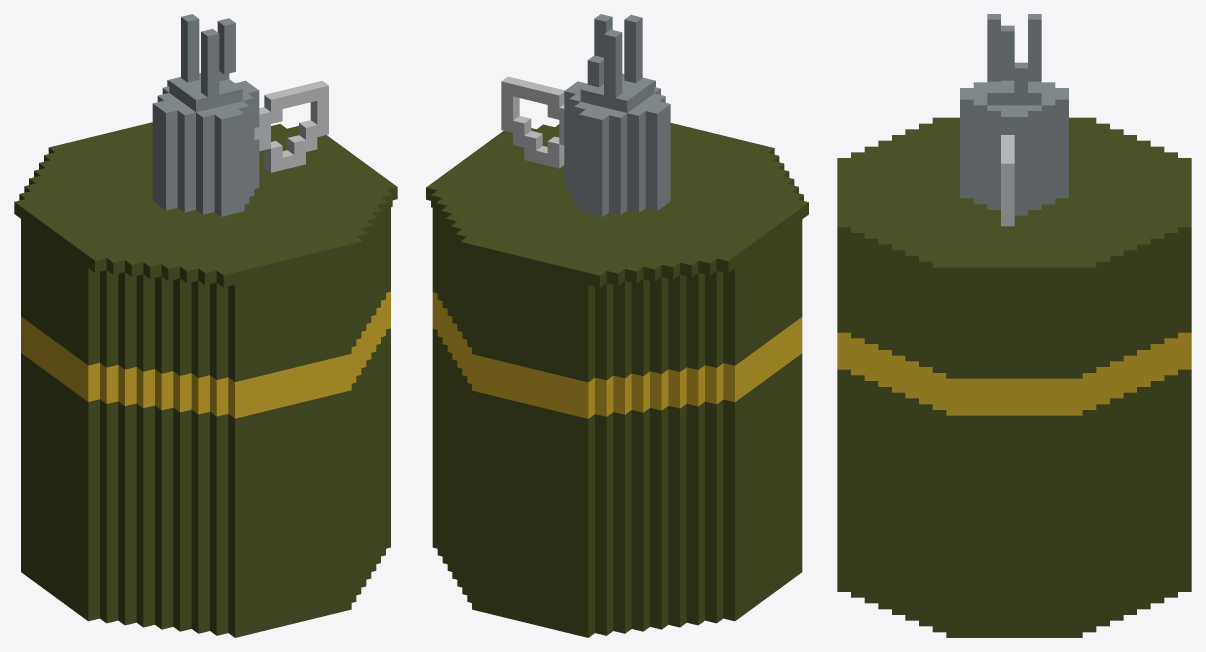
The model's file is landmine.glb.
The picture shows the model from 3 angles, left to right: view 1: azimuth 30°, elevation 25°; view 2: azimuth 150°, elevation 25°; view 3: azimuth 270°, elevation 25°; orthographic projection.
Parts seen in each view (by area): view 1: landmine:compound; view 2: landmine:compound; view 3: landmine:compound.
Boxes of the visible parts, left/top/right/bottom form: landmine:compound: left=14, top=14, right=397, bottom=637; landmine:compound: left=426, top=14, right=808, bottom=637; landmine:compound: left=837, top=14, right=1191, bottom=637.
Size of the model in its own units: 0.104 by 0.176 by 0.104.
